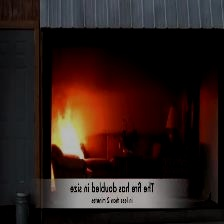fire: (53, 94, 89, 155)
